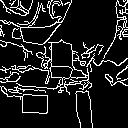cube: (47, 39, 75, 82)
